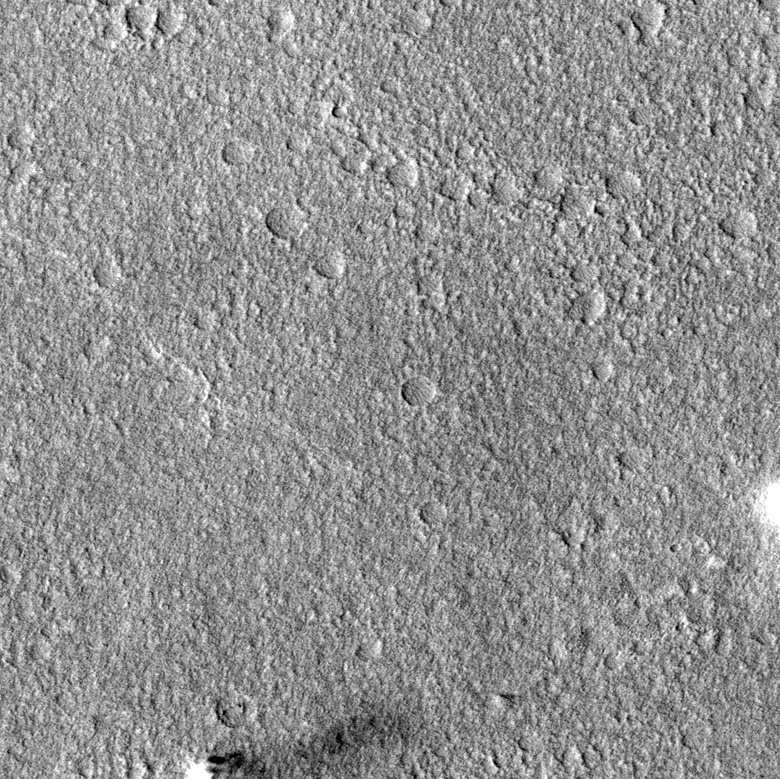dust_devil: (180, 712, 409, 779)
